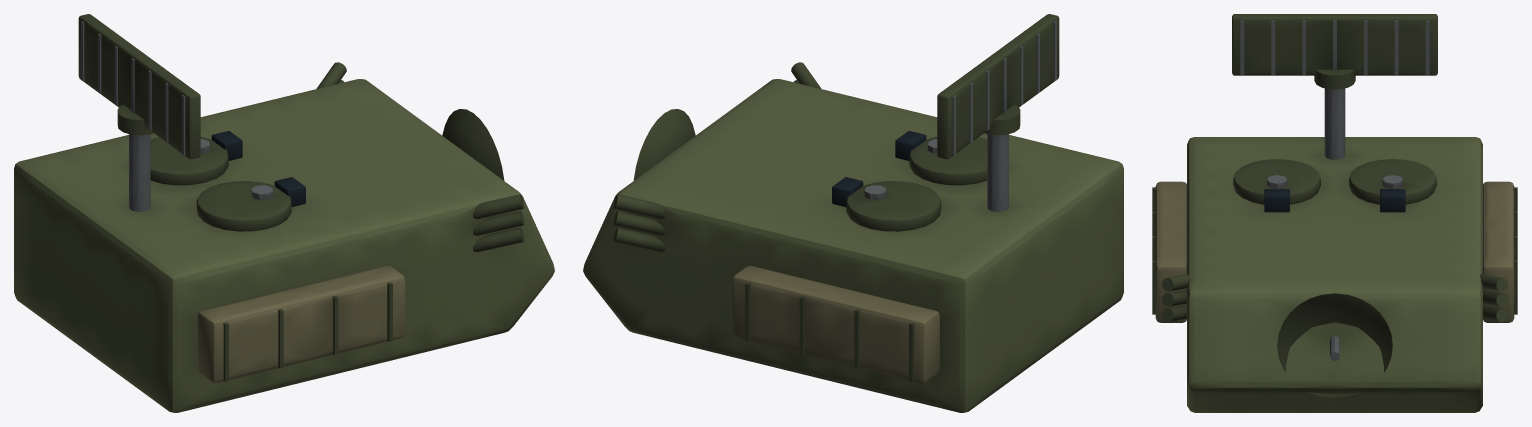
The model's file is spaag_turret.glb.
3 renders of one model, left to right at view 1: azimuth 30°, elevation 25°; view 2: azimuth 150°, elevation 25°; view 3: azimuth 270°, elevation 25°, orthographic. The views are drawn at different scales.
Visible parts, largest first — view 1: Cube; view 2: Cube; view 3: Cube.
Part boxes in pixels (box(x1,y1,x2,y2)): Cube: box(14, 14, 554, 412); Cube: box(583, 14, 1123, 412); Cube: box(1152, 14, 1517, 412).
Size of the model in its own units: 3.35 by 2.34 by 2.84.
